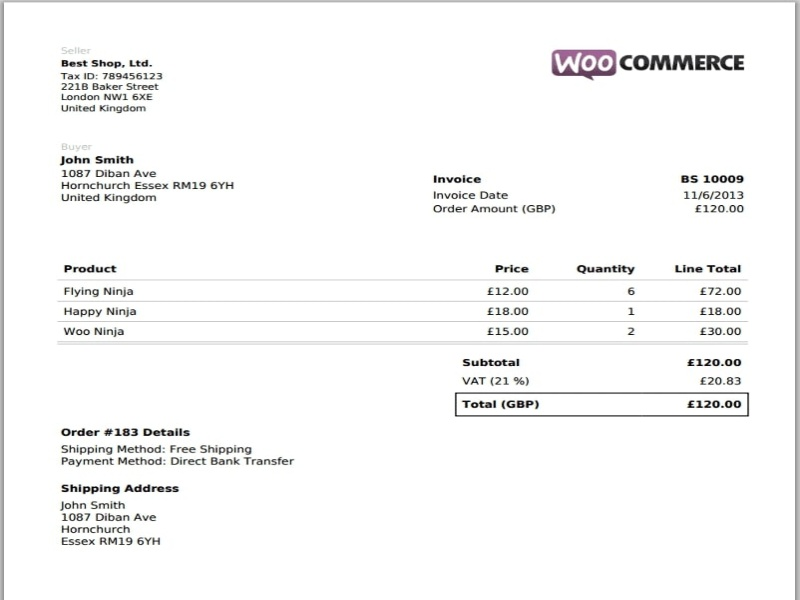invoice_detail: (54, 142, 238, 204), (57, 481, 184, 547)
table: (57, 261, 746, 344)
total: (455, 392, 750, 415)
